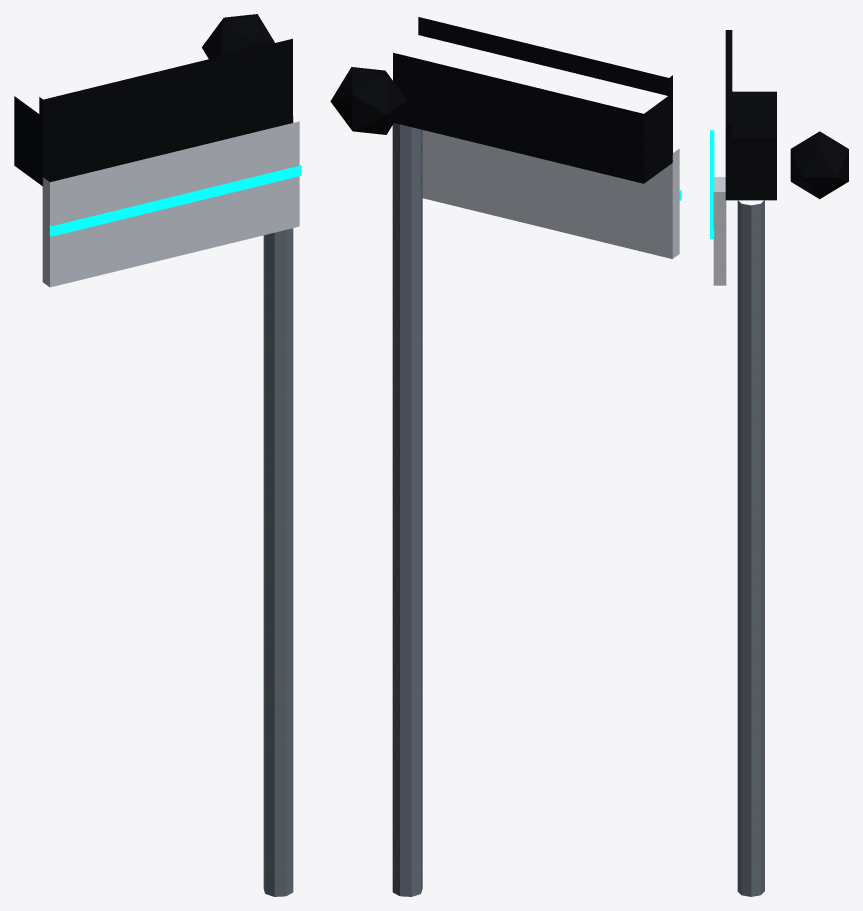
File: tt_struct_roof_corner.glb
3 views of the same model, side by side, from view 1: azimuth 30°, elevation 25°; view 2: azimuth 150°, elevation 25°; view 3: azimuth 270°, elevation 25° (orthographic). The views are drawn at different scales.
Visible parts, largest first — view 1: Fascia, Gutter, Corner_Downpipe, Edge_LED, Corner_Node; view 2: Gutter, Corner_Downpipe, Fascia, Corner_Node; view 3: Corner_Downpipe, Gutter, Corner_Node, Fascia, Edge_LED.
Part boxes in pixels (<box>): Fascia: <box>42,121,299,287</box>; Gutter: <box>14,38,292,186</box>; Corner_Downpipe: <box>263,116,293,896</box>; Edge_LED: <box>49,165,301,236</box>; Corner_Node: <box>202,14,274,58</box>; Gutter: <box>393,17,672,183</box>; Corner_Downpipe: <box>392,123,422,896</box>; Fascia: <box>422,130,679,258</box>; Corner_Node: <box>330,67,407,134</box>; Corner_Downpipe: <box>737,200,764,896</box>; Gutter: <box>725,30,776,200</box>; Corner_Node: <box>790,131,848,199</box>; Fascia: <box>713,177,726,285</box>; Edge_LED: <box>710,130,714,238</box>.
Size of the model in its own units: 1.67 by 4.95 by 0.8101.
4 materials, 3 textured.
